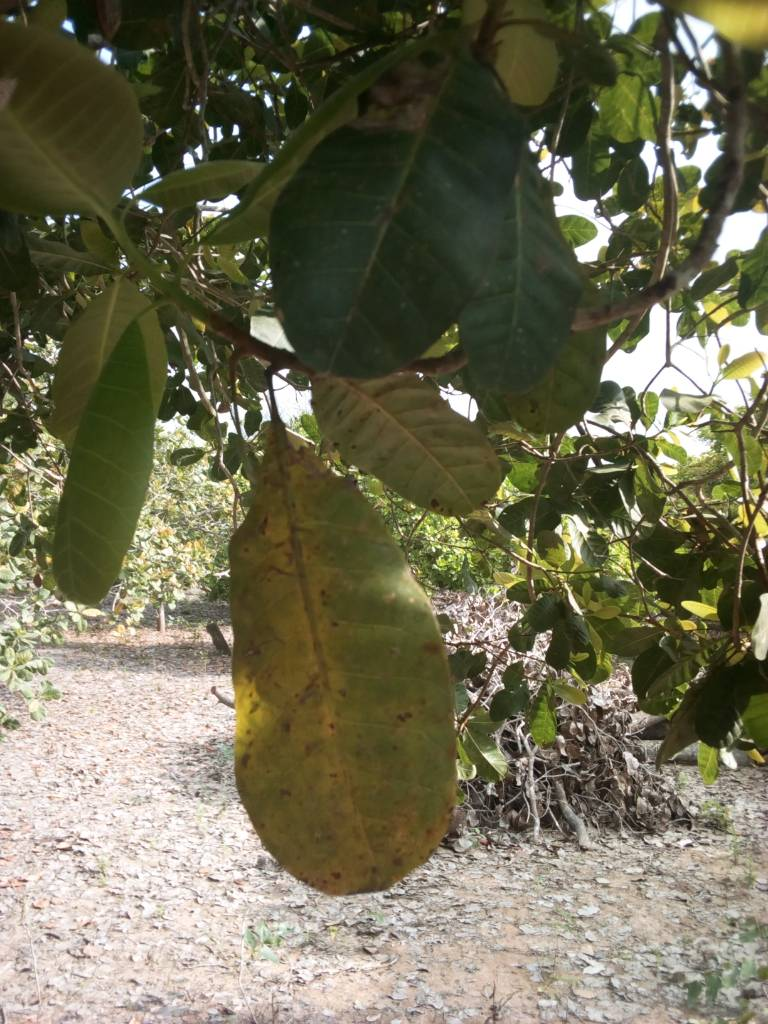Anthracnose: (235, 414, 458, 891), (268, 27, 510, 361), (310, 367, 502, 517)
